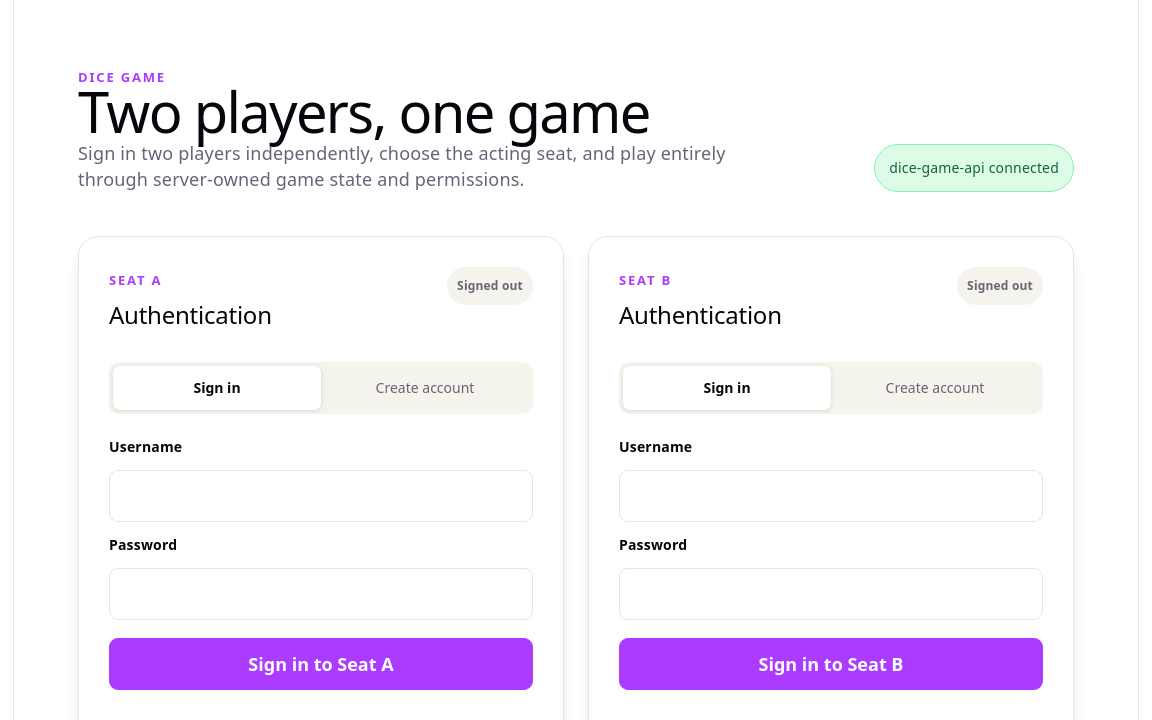
Test case: App › keeps two sessions independent and selects the exact acting-seat token
The image size is (1152, 720).
Type "SeatAlpha" into the 1st field labelled "Username" at (321, 496), box [109,470,533,522]
Type "private password" into the 1st password field labelled "Password" at (321, 594), box [109,568,533,620]
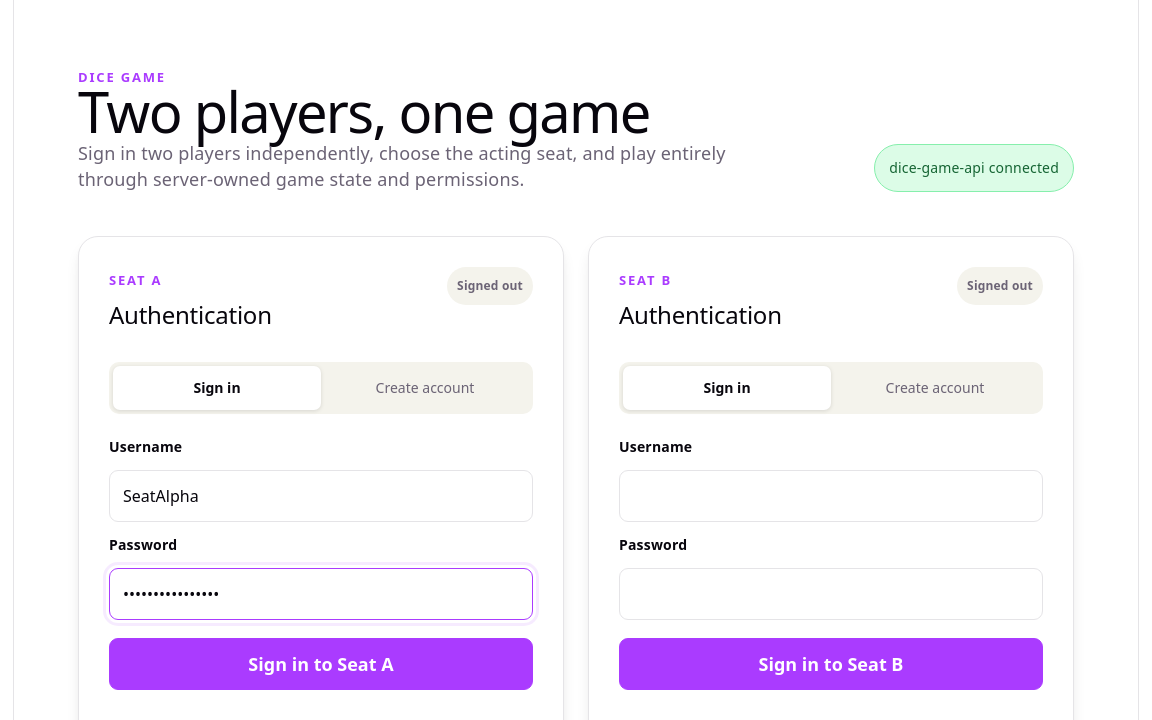
Click the button "Sign in to Seat A" at (321, 664), box [109,638,533,690]
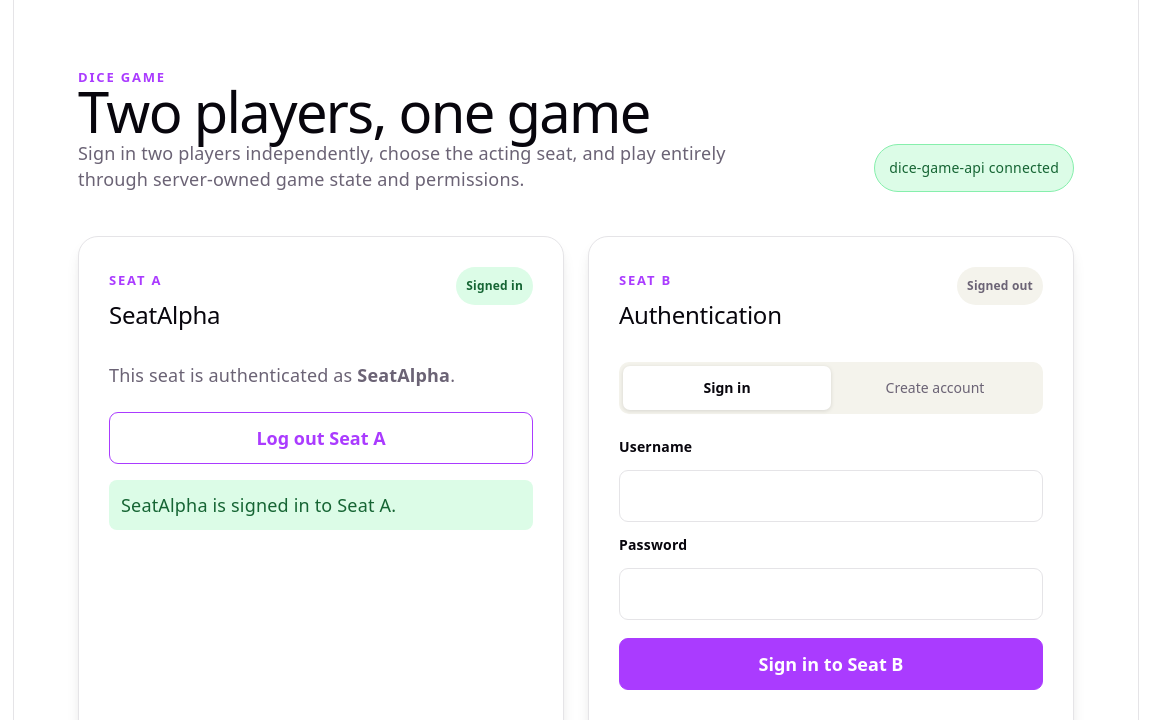
Expected: the text "This seat is authenticated as SeatAlpha." is shown, [109,363,455,387]
Type "SeatBravo" into the field labelled "Username" at (831, 496), box [619,470,1043,522]
Type "private password" into the password field labelled "Password" at (831, 594), box [619,568,1043,620]
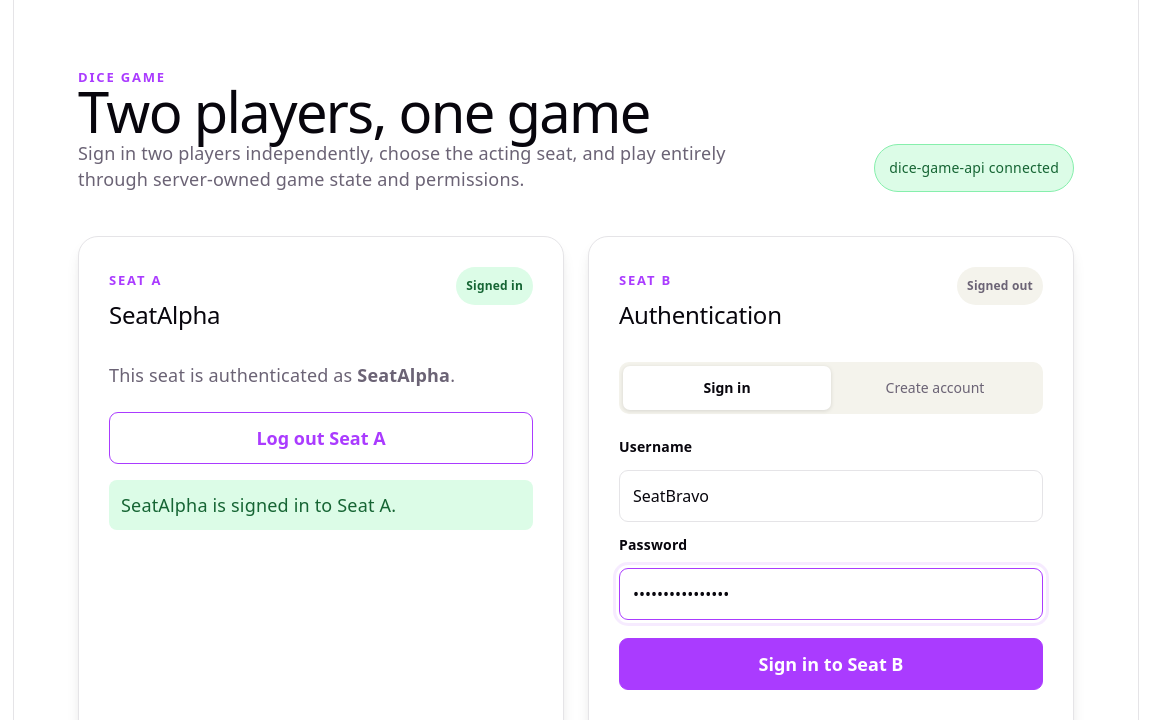
Click the button "Sign in to Seat B" at (831, 664), box [619,638,1043,690]
(page scrolled)
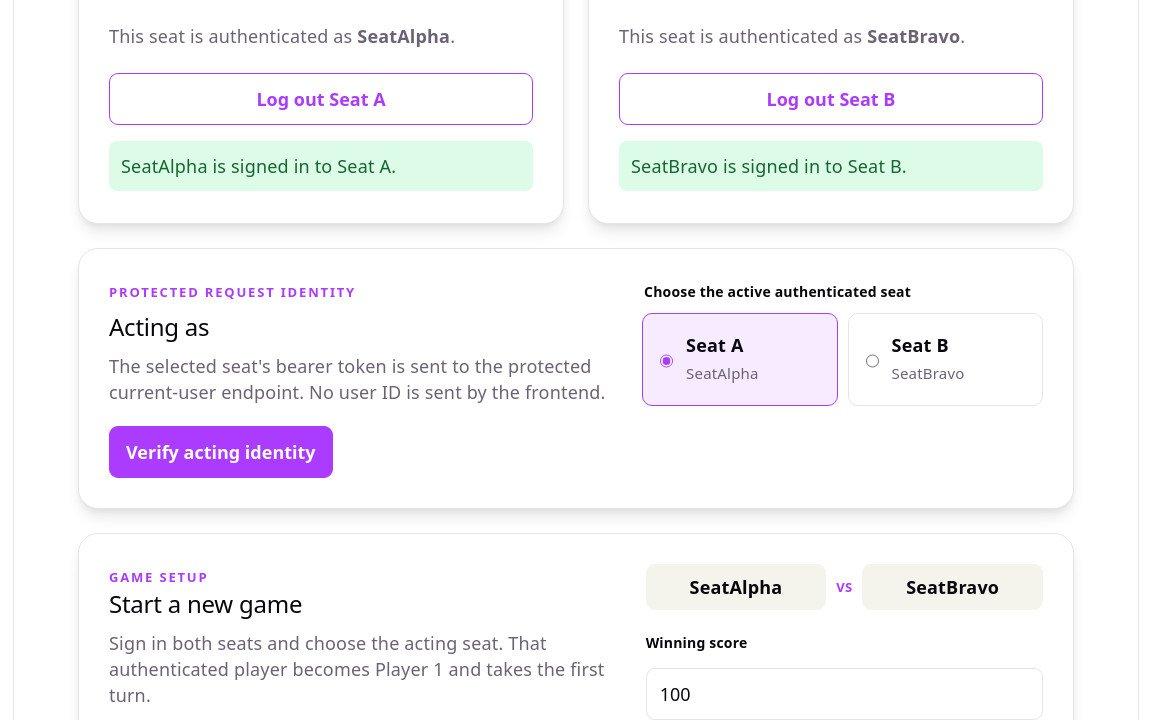
Expected: the radio button labelled "Seat A SeatAlpha" is checked, [660,339,673,383]
Expected: the text "This seat is authenticated as SeatBravo." is shown, [619,24,965,48]
Click the radio button labelled "Seat B SeatBravo" at (872, 361), box [866,339,878,383]
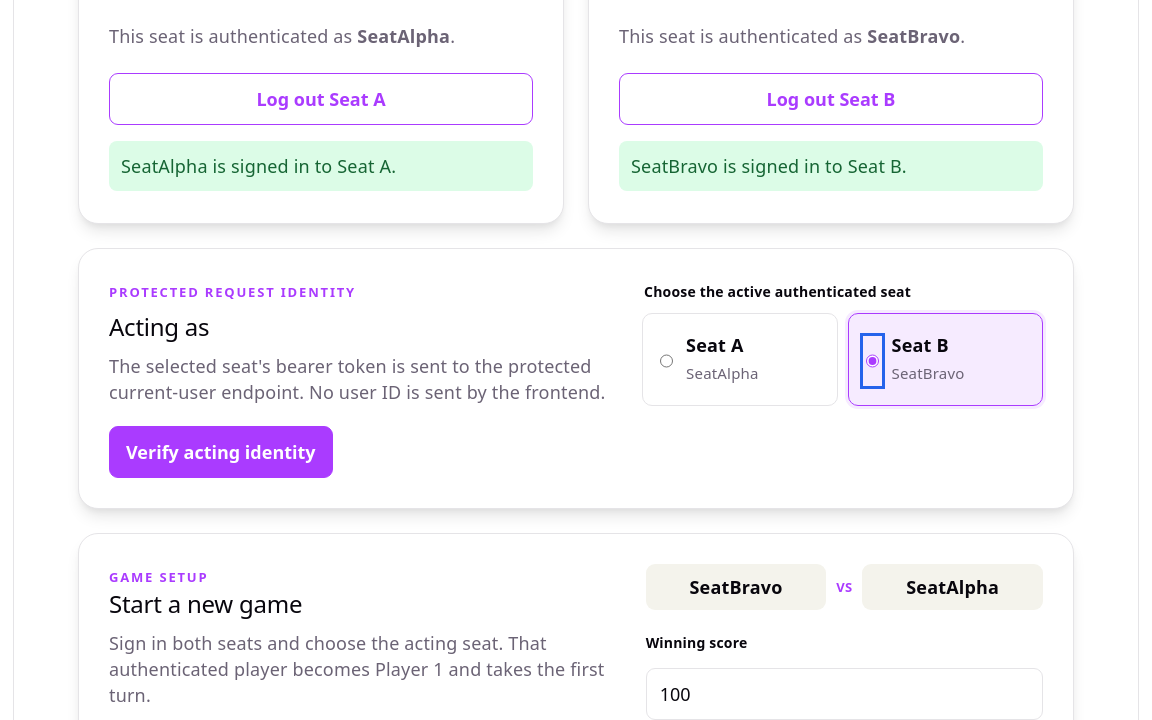
Click the button "Verify acting identity" at (221, 452), box [109,426,333,478]
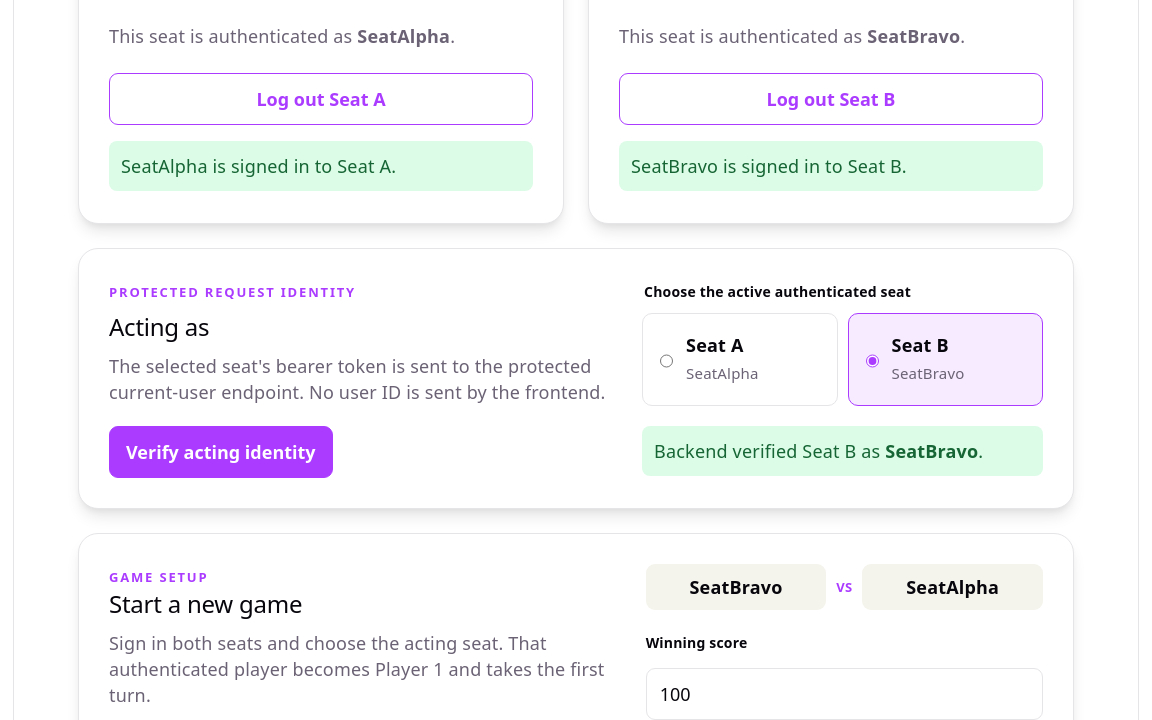
Expected: the text "Backend verified Seat B as SeatBravo." is shown, [642,426,1043,476]
